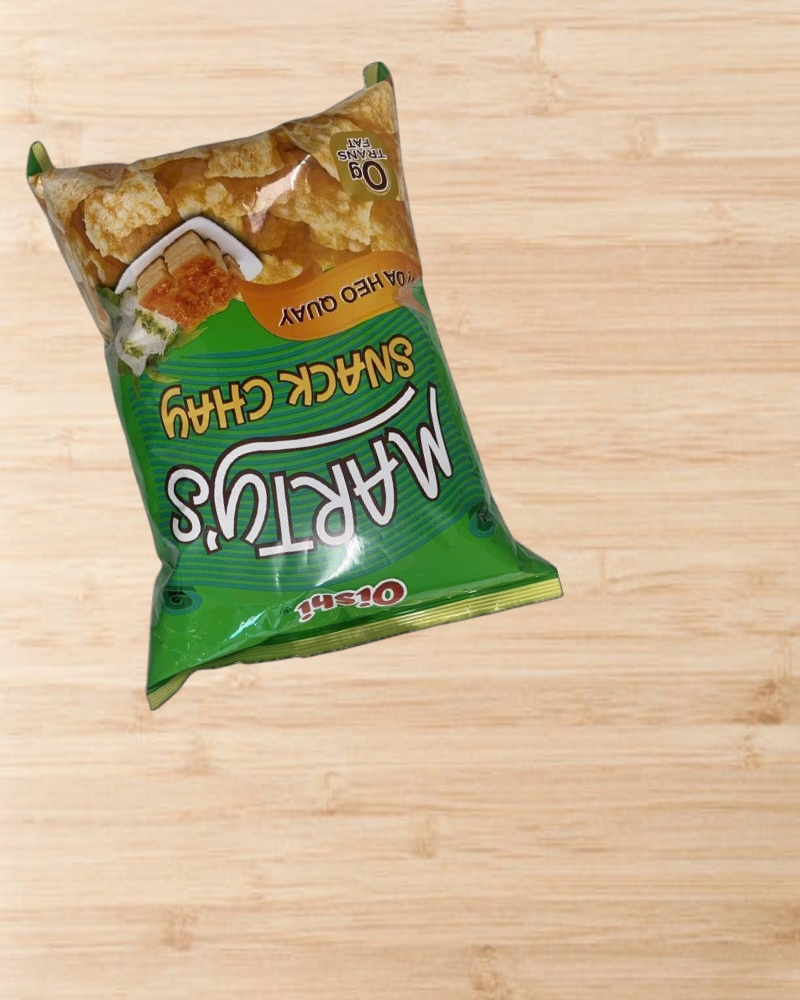Snack chay: (22, 42, 565, 706)
